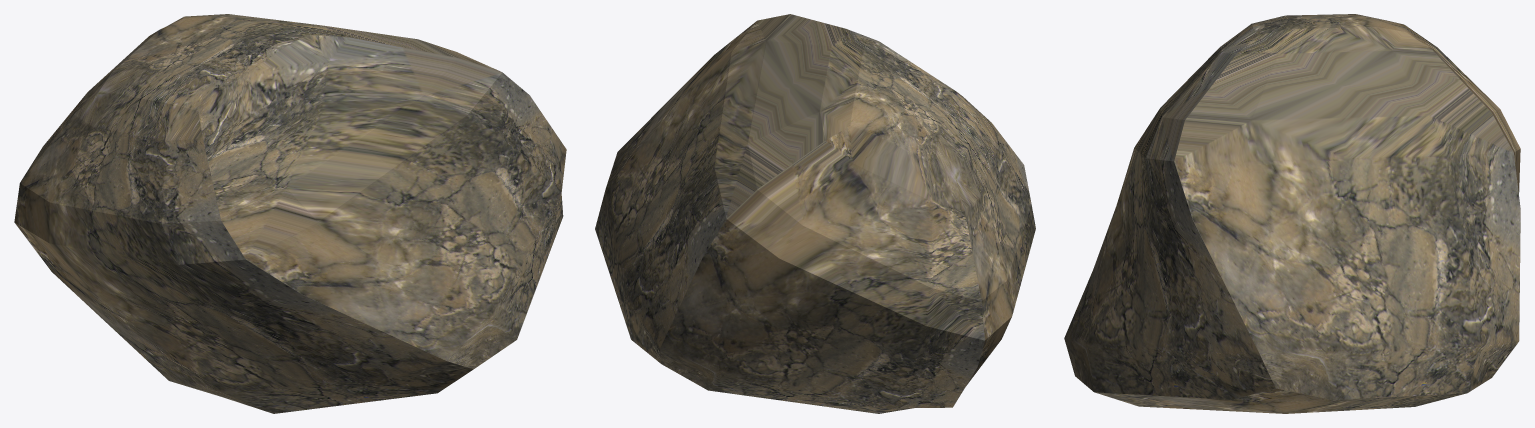
File: Boulder2.FBX
The picture shows the model from 3 angles, left to right: view 1: azimuth 30°, elevation 25°; view 2: azimuth 150°, elevation 25°; view 3: azimuth 270°, elevation 25°; orthographic projection. The views are drawn at different scales.
Parts seen in each view (by area): view 1: Box72; view 2: Box72; view 3: Box72.
Boxes of the visible parts, <box> form: Box72: <box>14,14,566,413</box>; Box72: <box>595,14,1035,413</box>; Box72: <box>1064,14,1520,413</box>.
Size of the model in its own units: 11.89 by 8.66 by 9.66.
